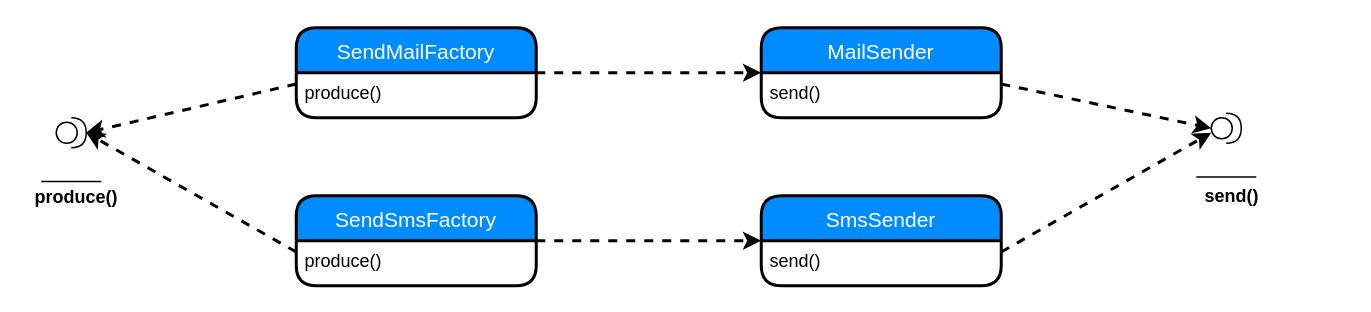
This 1371x312 diagram has some shape labels left out. The shapes that lost their labels are listed below. From the top down, each one's centre as x and y in pixels, then its label:
At point 70,132: "Provider".
At point 1225,127: "Sender".
